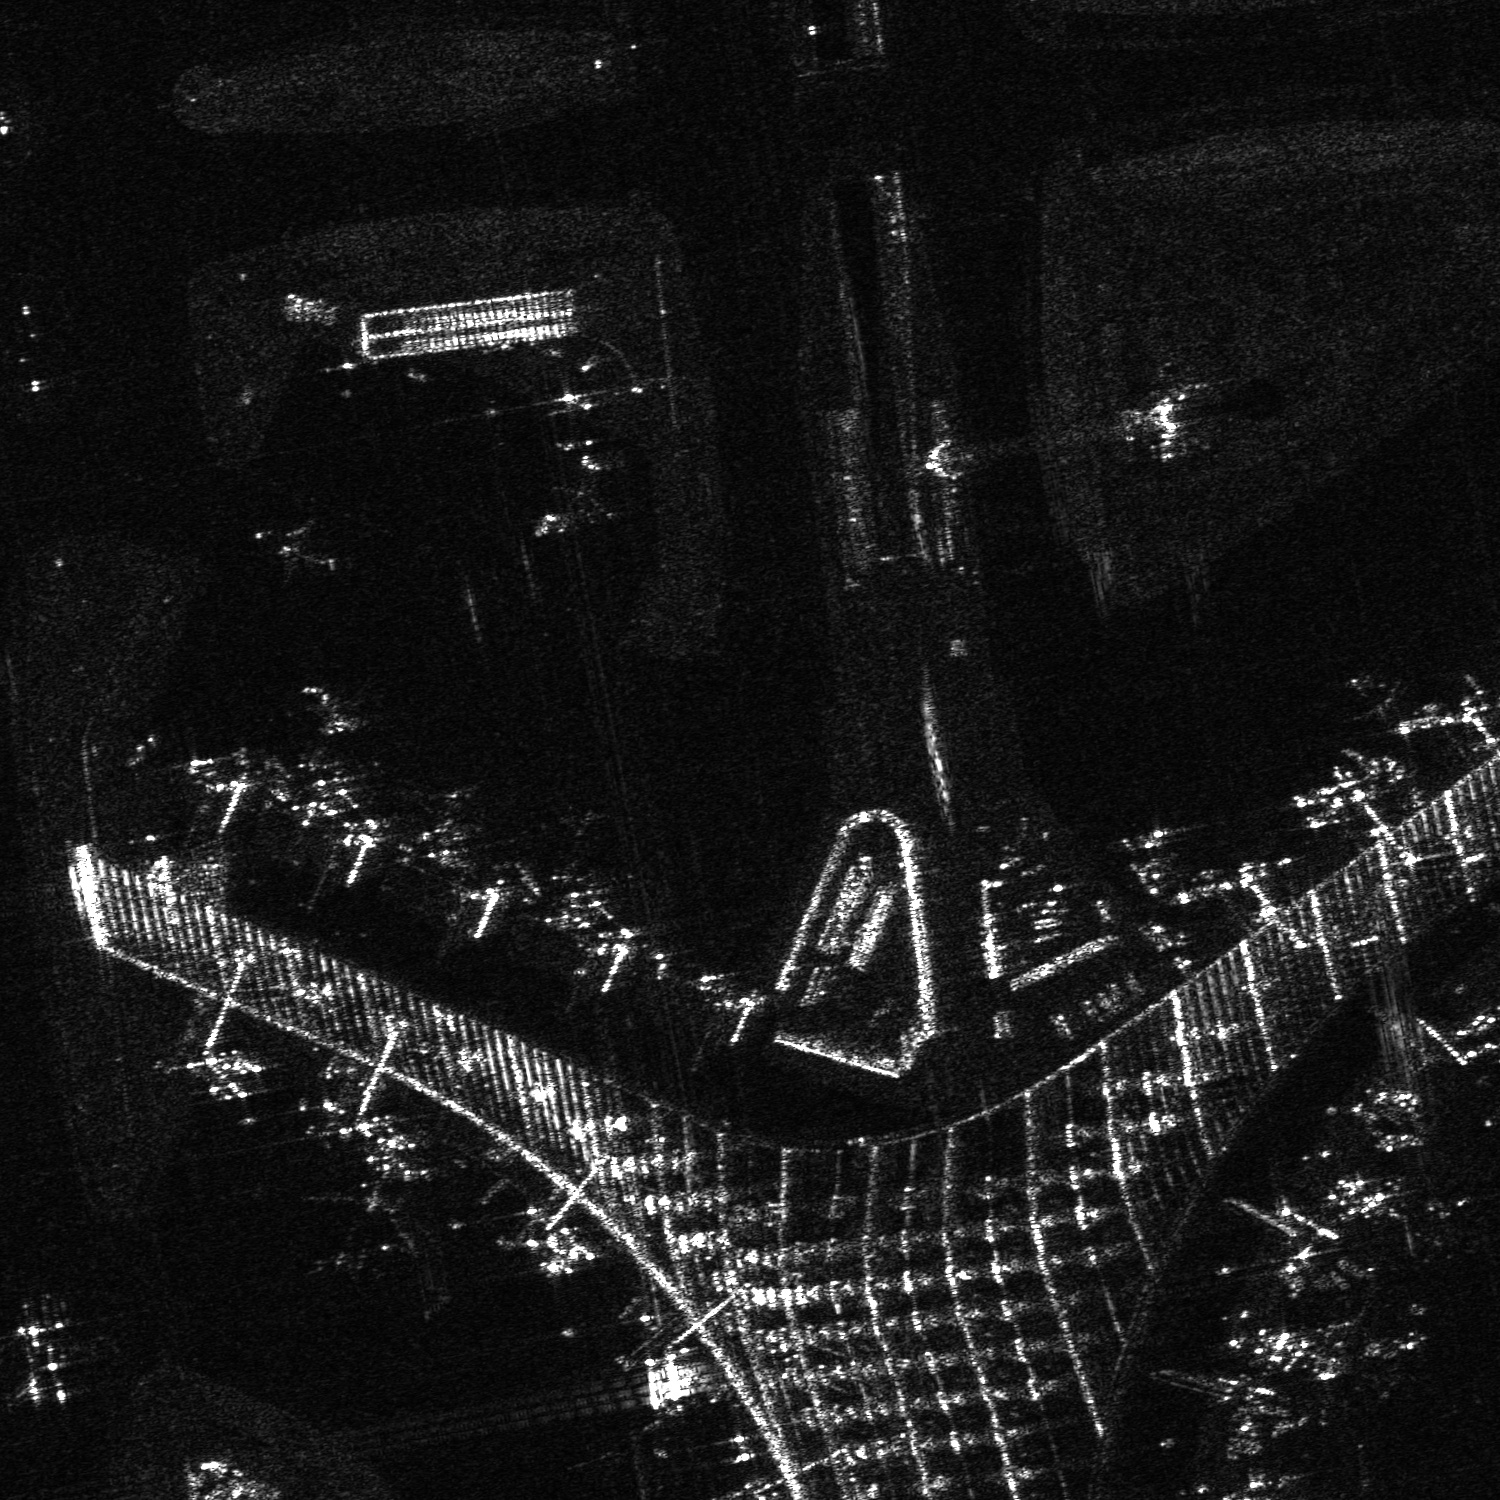Boeing787: (288, 1174, 396, 1276), (538, 452, 620, 536), (284, 757, 363, 835), (1342, 673, 1402, 724)
other: (253, 516, 338, 588)
